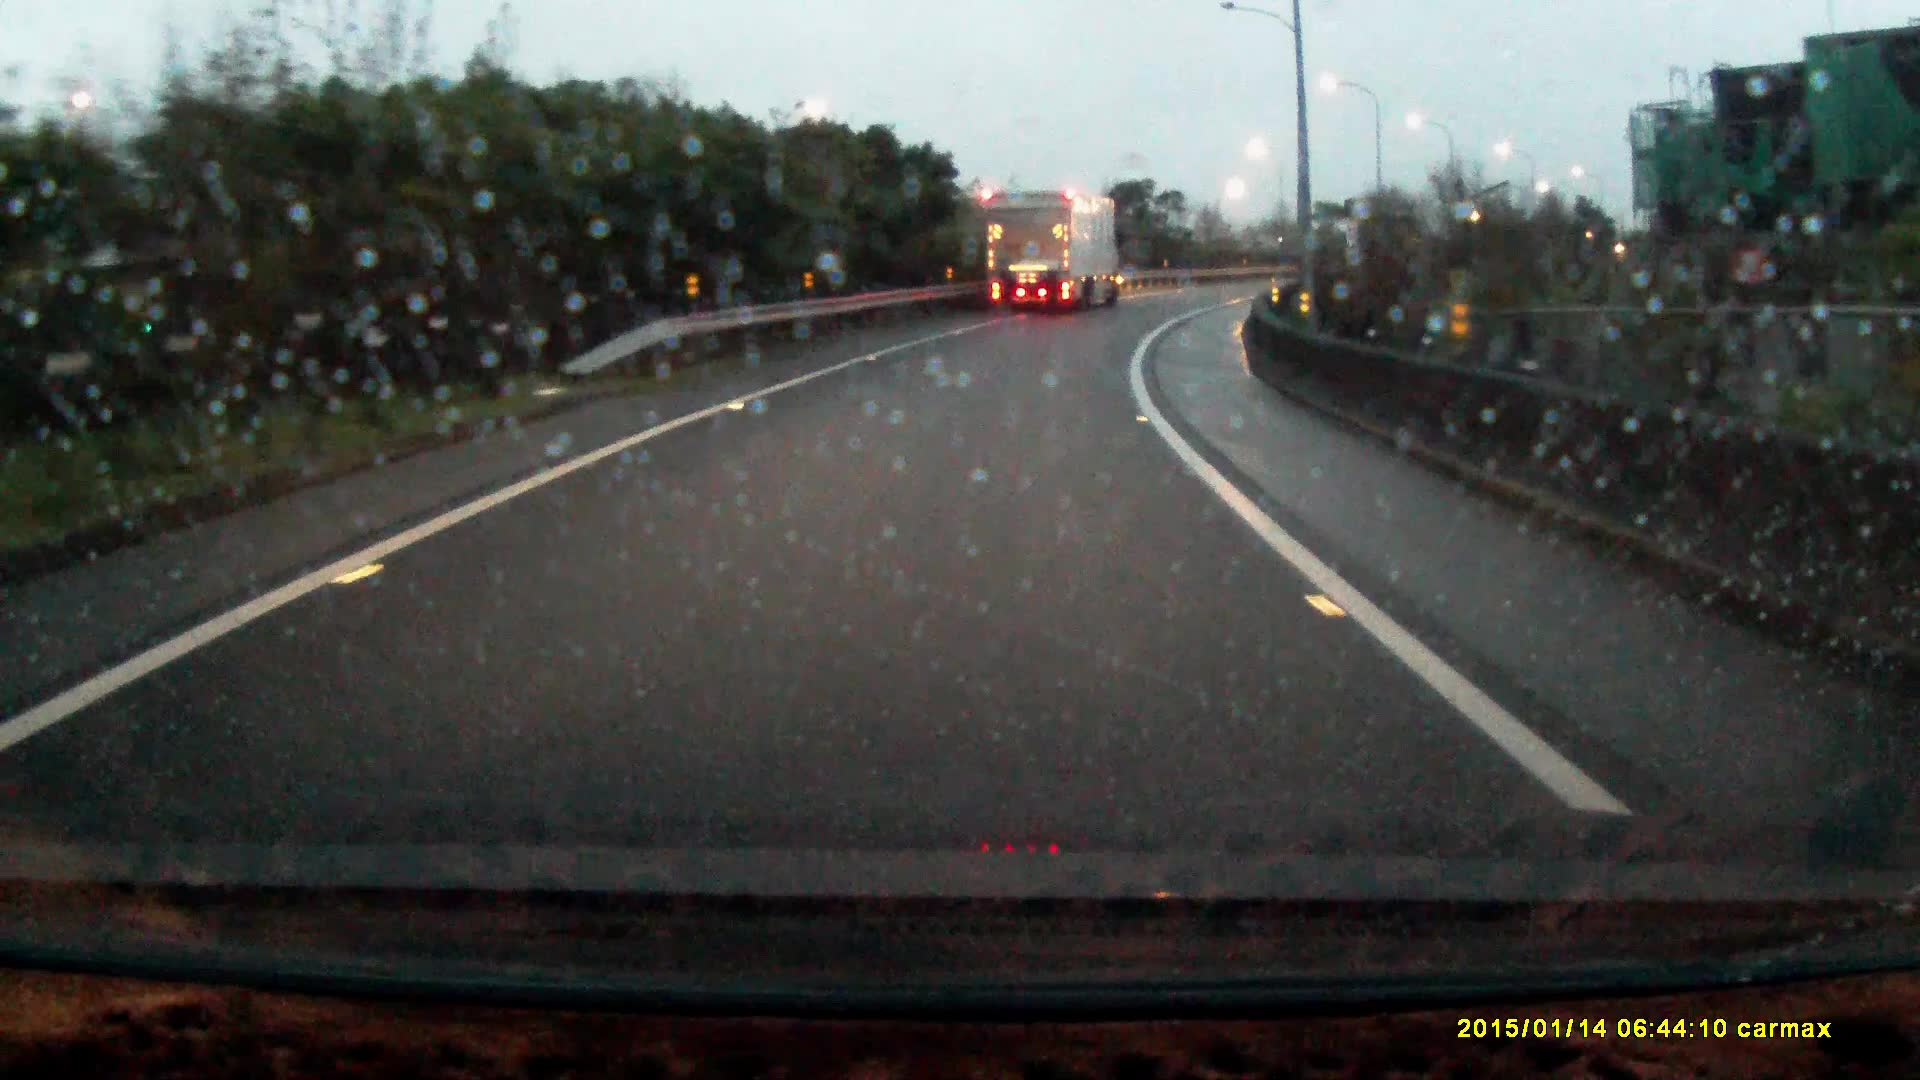vehicle: (978, 186, 1121, 313)
